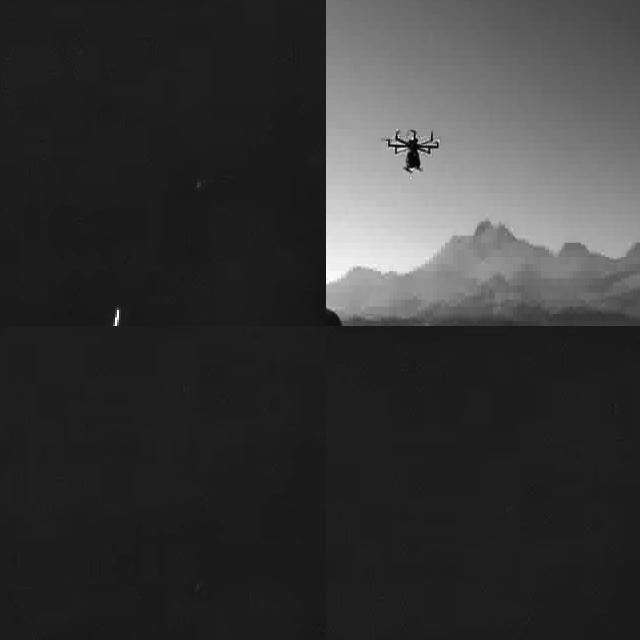0: (183, 175, 207, 203), (187, 574, 205, 604)
drone: (384, 120, 438, 178)
